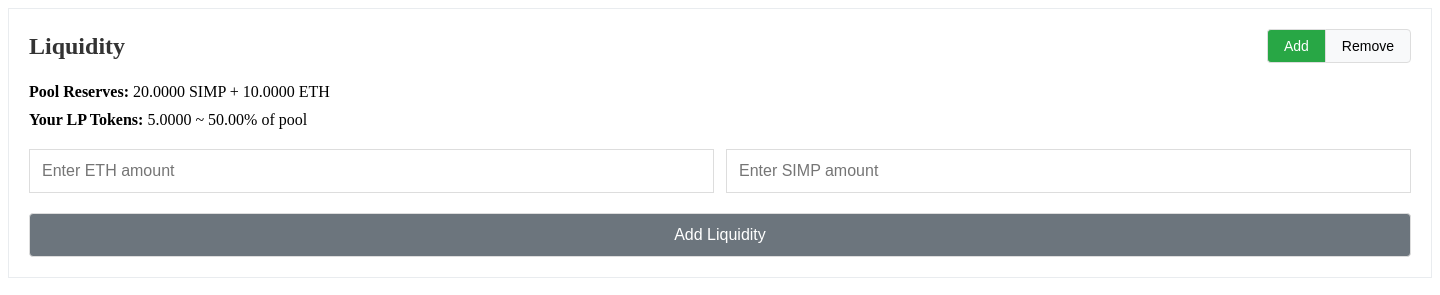
it: Liquidity › should switch to remove tab when clicked
The image size is (1440, 295).
Click the button "Remove": (1368, 46) 1325,29 -> 1411,63
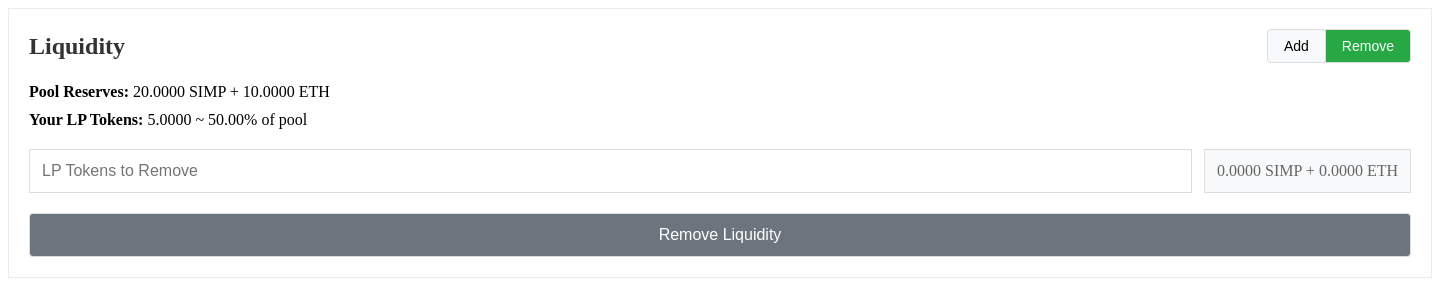
Check: the number field with placeholder "LP Tokens to Remove" is shown, box 29,149 -> 1192,193
Check: the button "Remove Liquidity" is shown, box 29,213 -> 1411,257
